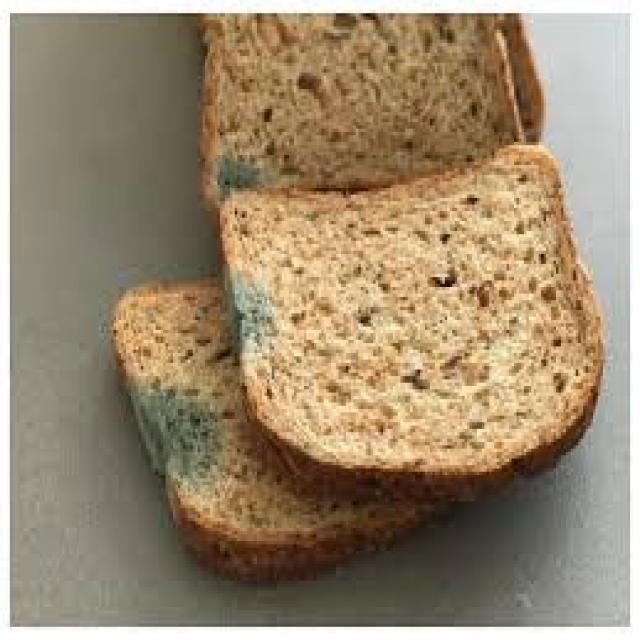organic waste: (215, 139, 600, 488), (111, 271, 465, 574), (193, 10, 521, 218), (499, 10, 544, 142)
